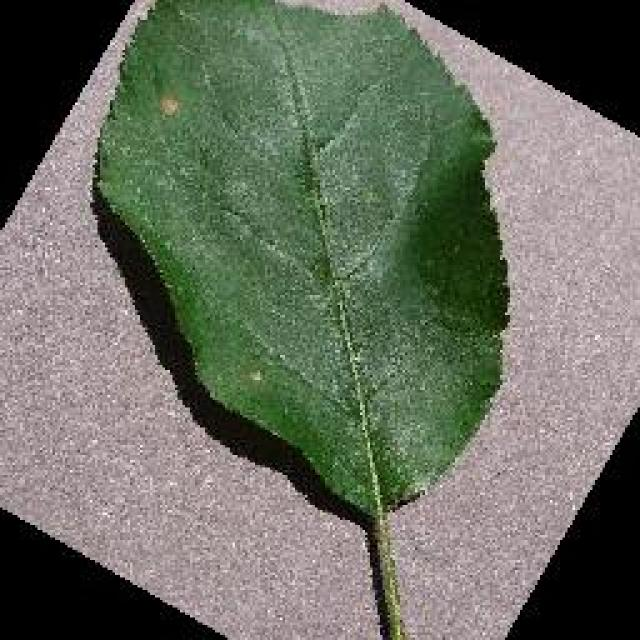Black_rot: (90, 0, 512, 520)
